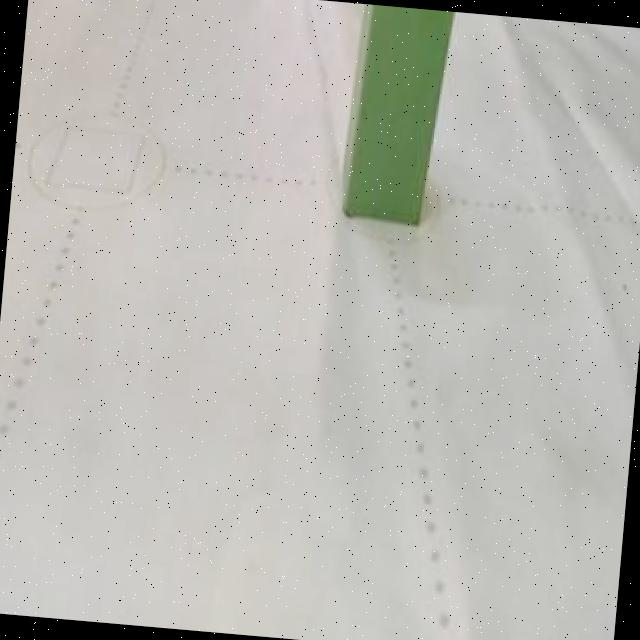greenbox: (342, 2, 461, 226)
